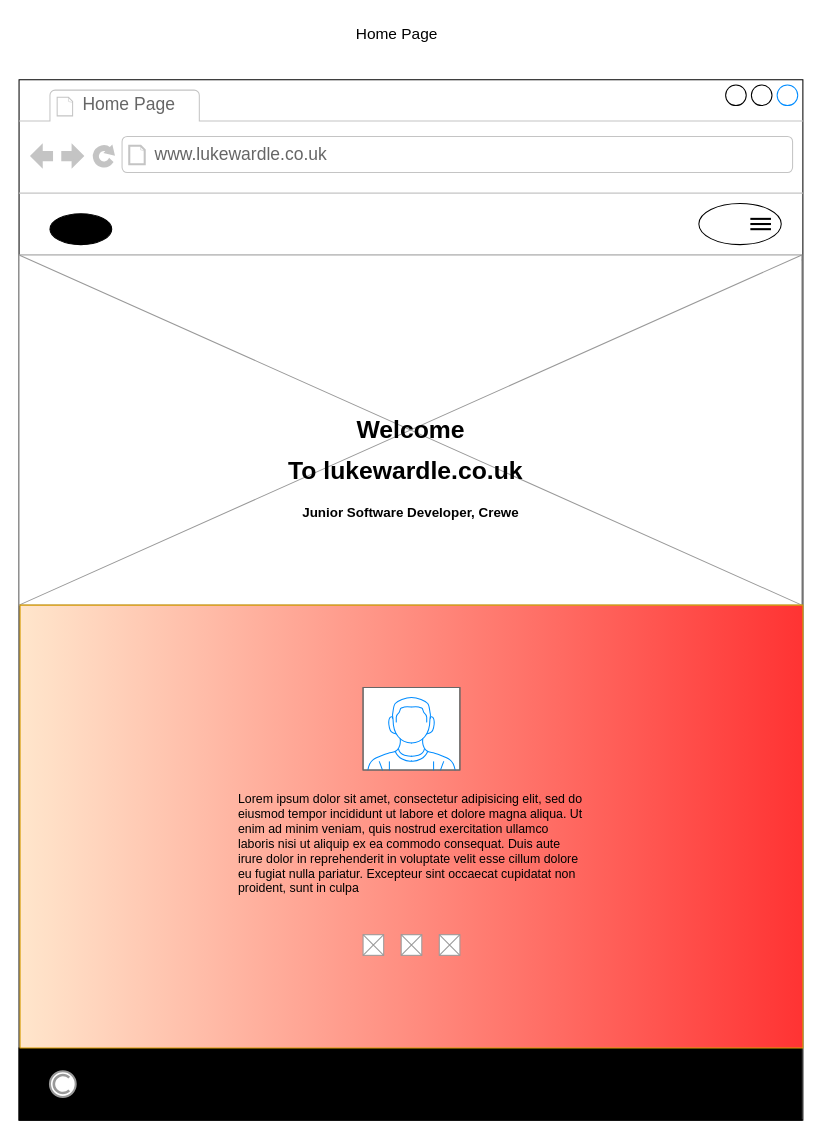
Image size: 821x1138. Some labels were removed from this diagram. Here are the shapes that lost their labels. From the top down, the box of each, then its label:
(49, 213, 112, 245): Logo
(698, 202, 781, 245): Menu
